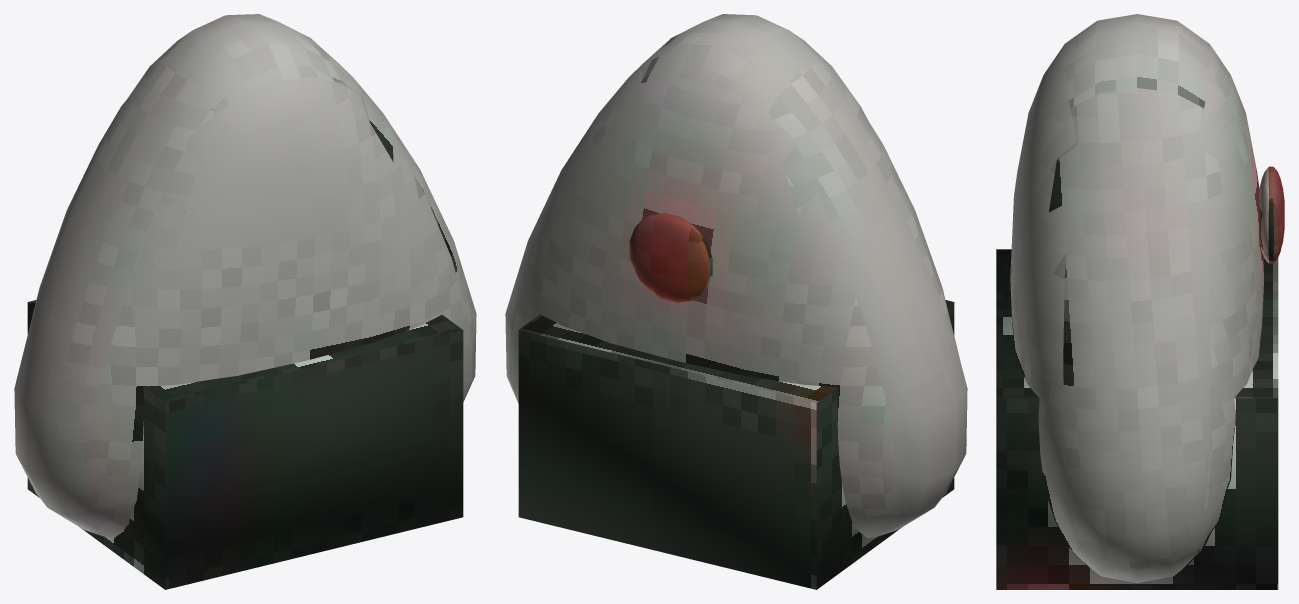
Rendered from onigiri_ume.glb.
The picture shows the model from 3 angles, left to right: view 1: azimuth 30°, elevation 25°; view 2: azimuth 150°, elevation 25°; view 3: azimuth 270°, elevation 25°; orthographic projection. The views are drawn at different scales.
Visible parts, largest first — view 1: prop_onigiri_ume_felt; view 2: prop_onigiri_ume_felt; view 3: prop_onigiri_ume_felt.
Part boxes in pixels (x1,y1,x2,y2): prop_onigiri_ume_felt: [14, 14, 476, 589]; prop_onigiri_ume_felt: [505, 14, 967, 589]; prop_onigiri_ume_felt: [996, 14, 1284, 589].
Bounding box in the file's own units: 0.1097 × 0.12 × 0.0614.
1 material, 1 textured.
